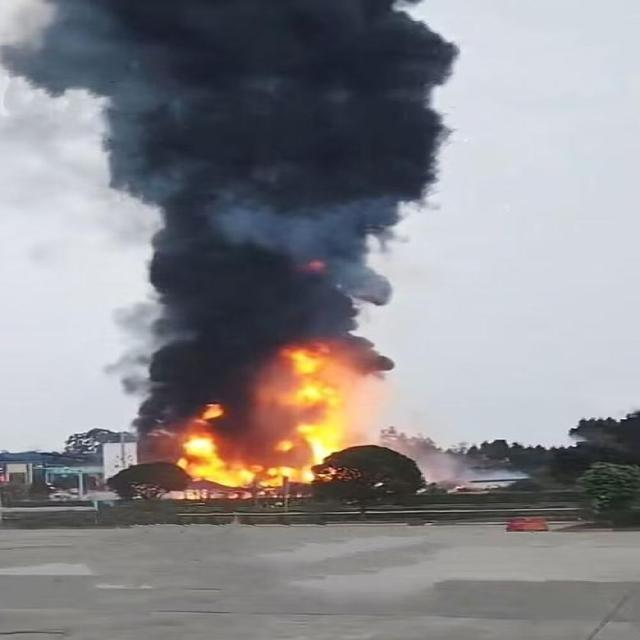Fire: (176, 344, 350, 482)
Smoke: (16, 0, 454, 340)
